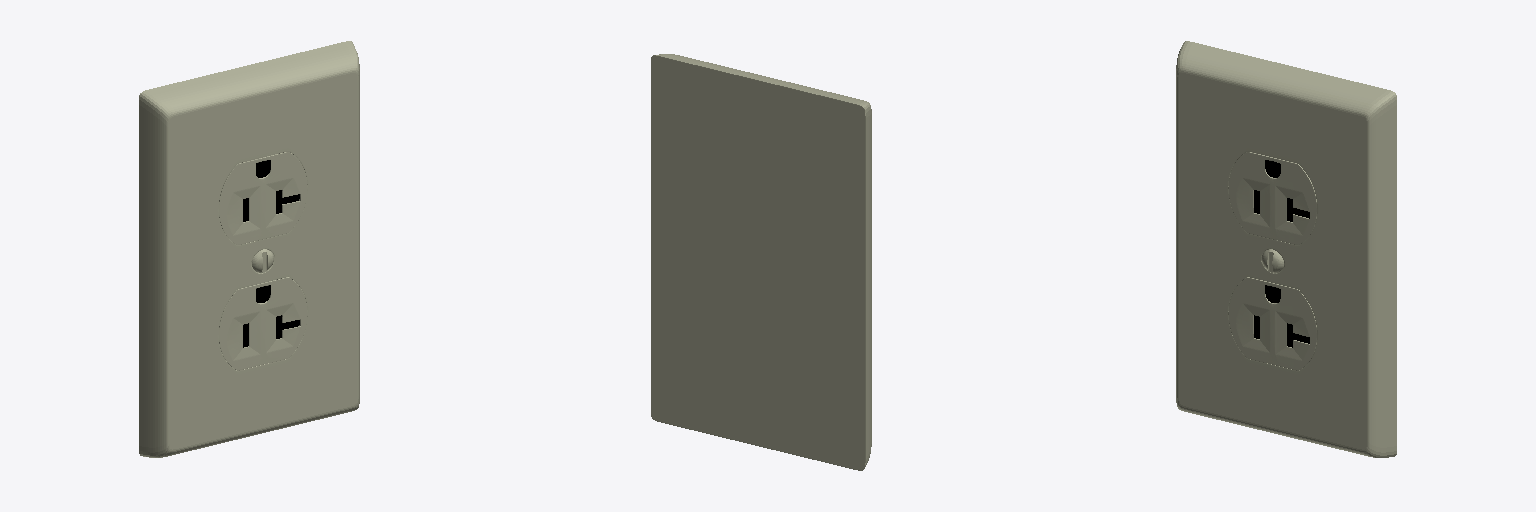
File: socket_1.obj
3 renders of one model, left to right at view 1: azimuth 30°, elevation 25°; view 2: azimuth 150°, elevation 25°; view 3: azimuth 330°, elevation 25°, orthographic.
Parts seen in each view (by area): view 1: NEMA_5_20_Female_Wall_Socket_body, NEMA_5_20_Female_Wall_Socket_sockets, NEMA_5_20_Female_Wall_Socket_dark_plane; view 2: NEMA_5_20_Female_Wall_Socket_body; view 3: NEMA_5_20_Female_Wall_Socket_body, NEMA_5_20_Female_Wall_Socket_sockets, NEMA_5_20_Female_Wall_Socket_dark_plane.
Boxes of the visible parts, <box> form: NEMA_5_20_Female_Wall_Socket_body: <box>139,41,359,457</box>; NEMA_5_20_Female_Wall_Socket_sockets: <box>219,152,307,370</box>; NEMA_5_20_Female_Wall_Socket_dark_plane: <box>243,160,299,347</box>; NEMA_5_20_Female_Wall_Socket_body: <box>651,54,871,470</box>; NEMA_5_20_Female_Wall_Socket_body: <box>1176,41,1396,457</box>; NEMA_5_20_Female_Wall_Socket_sockets: <box>1228,152,1316,370</box>; NEMA_5_20_Female_Wall_Socket_dark_plane: <box>1254,160,1309,347</box>.
Bounding box in the file's own units: 7.27 × 11.82 × 1.16.